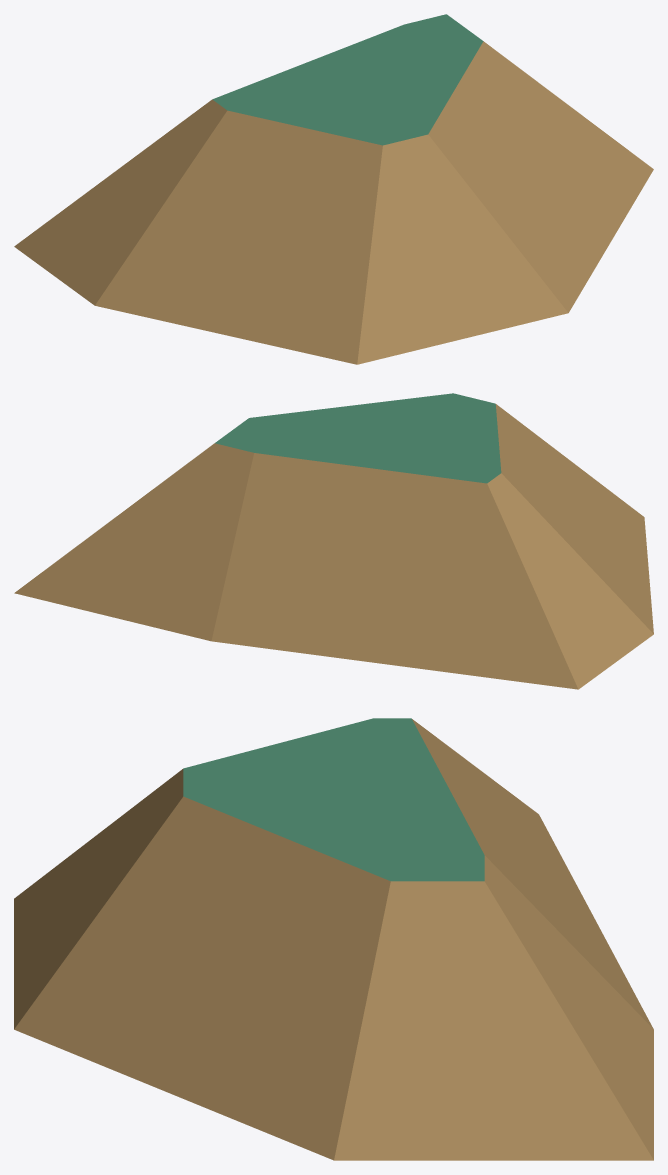
File: Rock_Small_Mesa_Eroded_Moss_Grass_15.FBX
3 renders of one model, top to bottom at view 1: azimuth 30°, elevation 25°; view 2: azimuth 150°, elevation 25°; view 3: azimuth 270°, elevation 25°, orthographic. The views are drawn at different scales.
Parts seen in each view (by area): view 1: Rock_Small_Mesa_Eroded_Moss_Grass_15; view 2: Rock_Small_Mesa_Eroded_Moss_Grass_15; view 3: Rock_Small_Mesa_Eroded_Moss_Grass_15.
Boxes of the visible parts, x1=… form: Rock_Small_Mesa_Eroded_Moss_Grass_15: x1=14, y1=14, x2=653, y2=364; Rock_Small_Mesa_Eroded_Moss_Grass_15: x1=14, y1=393, x2=653, y2=689; Rock_Small_Mesa_Eroded_Moss_Grass_15: x1=14, y1=718, x2=653, y2=1160.
Size of the model in its own units: 1903 by 481 by 1487.
